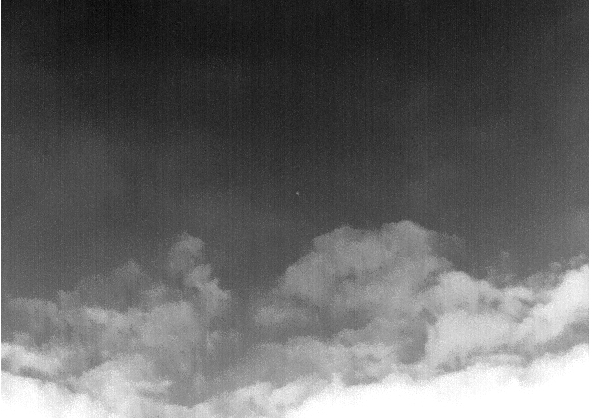dim target: (294, 189, 300, 196)
